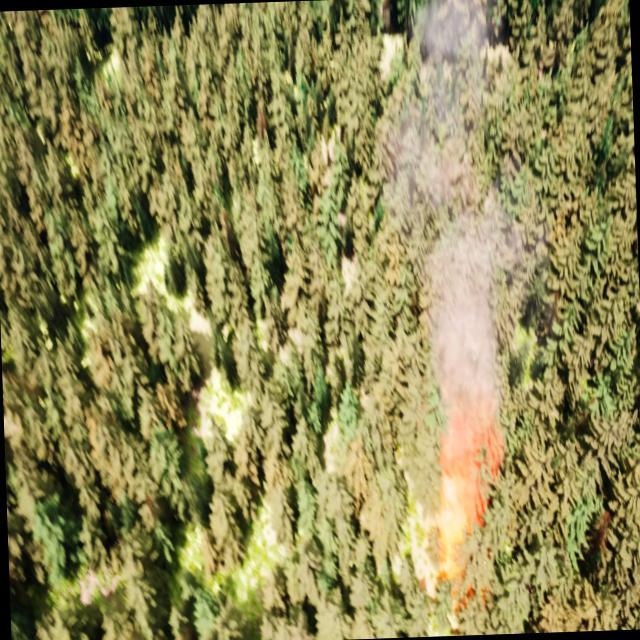fire: (433, 468, 485, 583)
smoke: (378, 0, 541, 538)
